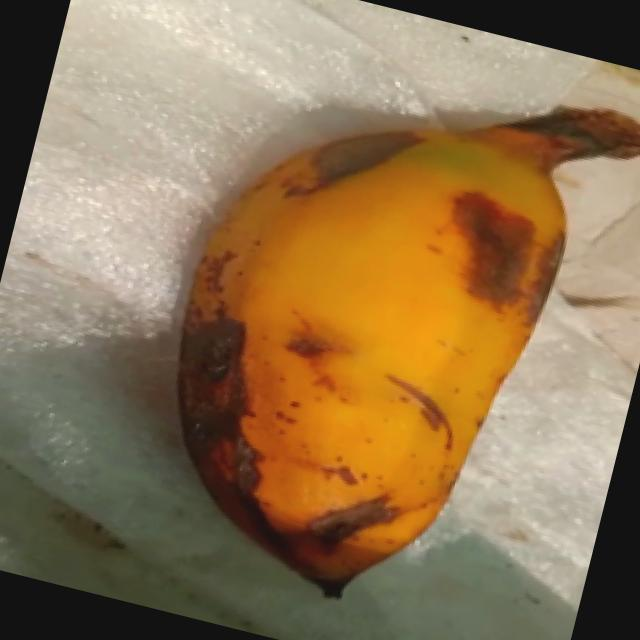Rotten_Banana: (109, 14, 640, 640)
